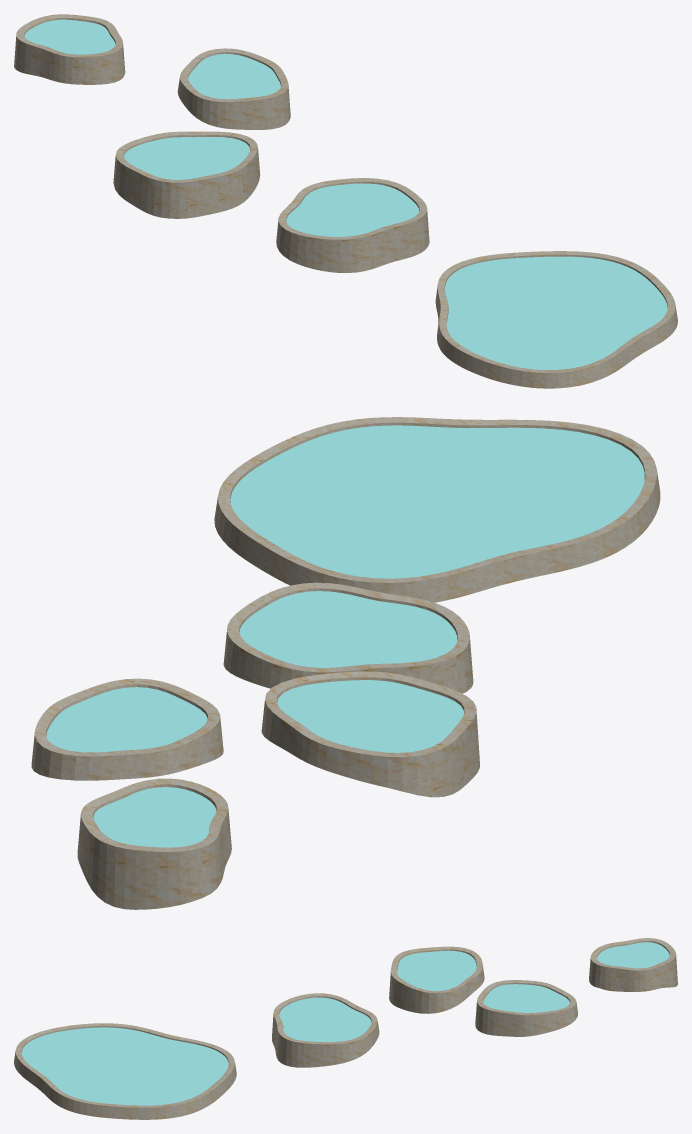
The model's file is springs_v2.glb.
3 views of the same model, one above another, from view 1: azimuth 30°, elevation 25°; view 2: azimuth 150°, elevation 25°; view 3: azimuth 270°, elevation 25° (orthographic). The views are drawn at different scales.
Parts seen in each view (by area): view 1: LagoonWater, Pool1Water, Pool2Water, Pool3Water, Pool4Water, Pool2Rim08, Pool1Rim09, Pool2Rim09, Pool1Rim10, Pool3Rim09, Pool2Rim10, Pool2Rim07 (+16 smaller); view 2: LagoonWater, Pool1Water, Pool2Water, Pool3Water, Pool4Water, Pool4Rim04, Pool4Rim05, Pool2Rim05, Pool2Rim06, Pool4Rim03, LagoonRim07, LagoonRim10 (+24 smaller); view 3: LagoonWater, Pool1Water, Pool2Water, Pool3Water, Pool4Water, Pool1Rim14, Pool2Rim12, Pool1Rim01, Pool3Rim11, Pool1Rim13, Pool2Rim01, Pool4Rim11 (+16 smaller).
Boxes of the visible parts, left/top/right/bottom form: LagoonWater: left=445, top=256, right=667, bottom=370; Pool1Water: left=286, top=183, right=418, bottom=236; Pool2Water: left=124, top=137, right=249, bottom=179; Pool3Water: left=188, top=54, right=280, bottom=99; Pool4Water: left=24, top=19, right=115, bottom=54; Pool2Rim08: left=153, top=177, right=187, bottom=218; Pool1Rim09: left=305, top=234, right=341, bottom=272; Pool2Rim09: left=188, top=174, right=218, bottom=218; Pool1Rim10: left=340, top=232, right=371, bottom=272; Pool3Rim09: left=233, top=96, right=265, bottom=129; Pool2Rim10: left=214, top=167, right=243, bottom=212; Pool2Rim07: left=129, top=168, right=158, bottom=215; LagoonWater: left=230, top=425, right=644, bottom=578; Pool1Water: left=239, top=591, right=457, bottom=667; Pool2Water: left=277, top=680, right=463, bottom=752; Pool3Water: left=46, top=687, right=207, bottom=752; Pool4Water: left=93, top=787, right=216, bottom=847; Pool4Rim04: left=114, top=843, right=157, bottom=909; Pool4Rim05: left=157, top=844, right=202, bottom=908; Pool2Rim05: left=373, top=749, right=431, bottom=797; Pool2Rim06: left=424, top=732, right=464, bottom=797; Pool4Rim03: left=87, top=831, right=120, bottom=906; LagoonRim07: left=388, top=570, right=454, bottom=602; LagoonRim10: left=544, top=533, right=604, bottom=572; LagoonWater: left=21, top=1027, right=228, bottom=1105; Pool1Water: left=279, top=997, right=371, bottom=1041; Pool2Water: left=397, top=950, right=476, bottom=991; Pool3Water: left=483, top=984, right=569, bottom=1012; Pool4Water: left=597, top=942, right=669, bottom=968; Pool1Rim14: left=297, top=1040, right=323, bottom=1067; Pool2Rim12: left=409, top=986, right=436, bottom=1013; Pool1Rim01: left=323, top=1040, right=349, bottom=1066; Pool3Rim11: left=482, top=1007, right=507, bottom=1036; Pool1Rim13: left=278, top=1033, right=299, bottom=1067; Pool2Rim01: left=436, top=985, right=462, bottom=1012; Pool4Rim11: left=595, top=963, right=618, bottom=991.
Bounding box in the file's own units: 85.02 × 20.31 × 188.
2 materials, 1 textured.
